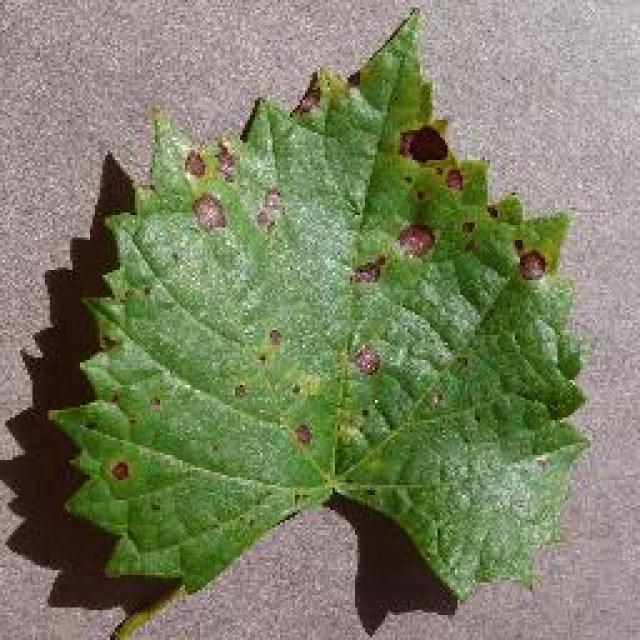Grape___Black_rot: (43, 6, 595, 608)
